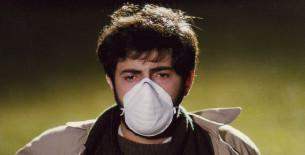OK: (117, 61, 179, 127)
